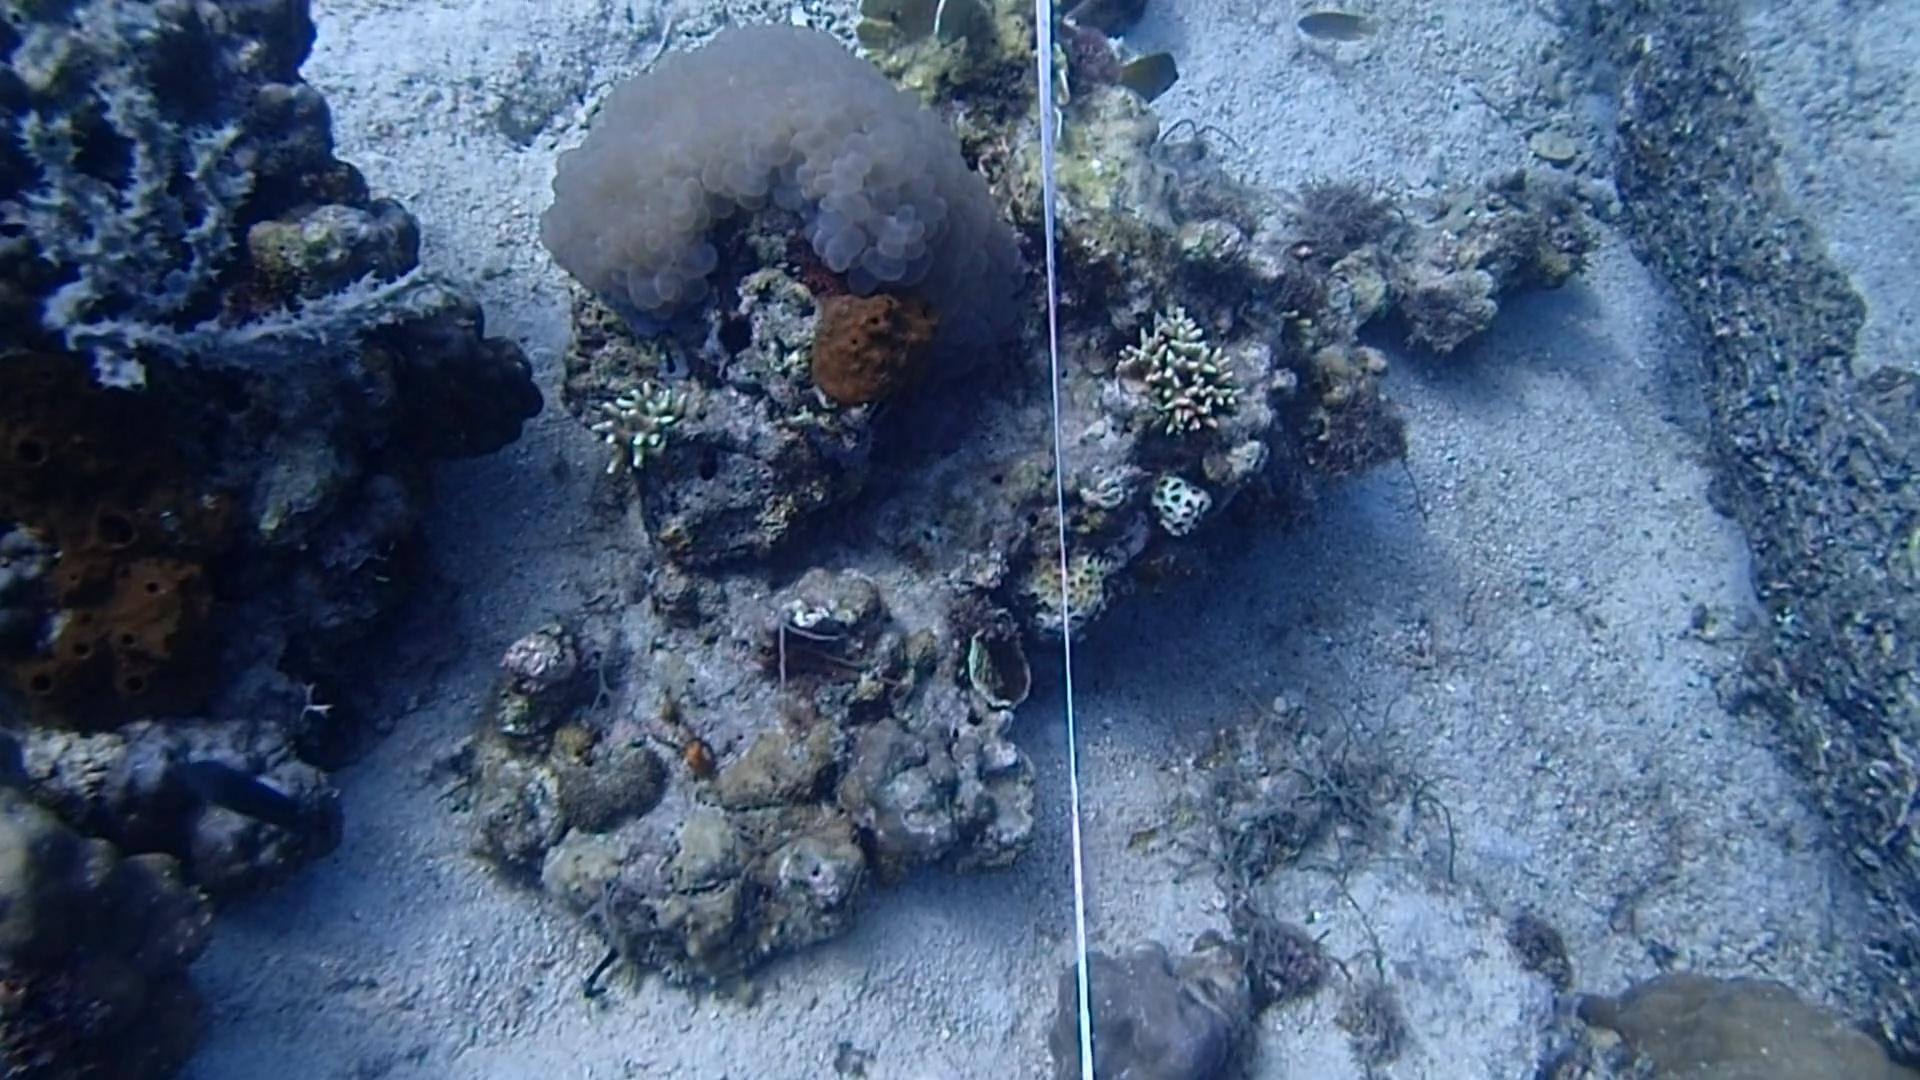Big Dark Blue Fish: (167, 740, 327, 849)
Light Fish: (1291, 3, 1378, 58)
Yellow-Blue Fish: (1109, 45, 1187, 104)
